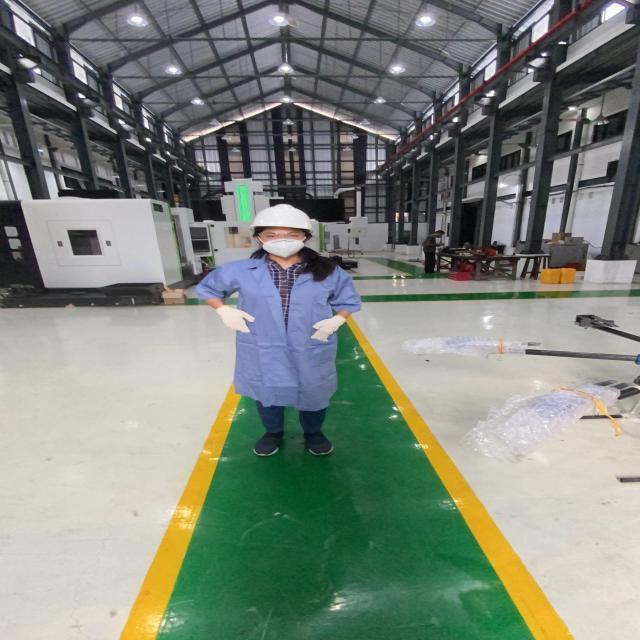glasses: (252, 228, 308, 242)
